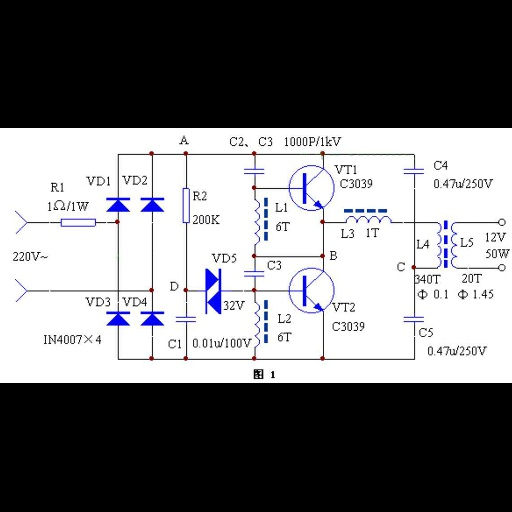capacitor: (397, 311, 431, 325), (172, 312, 201, 326), (241, 266, 268, 281), (240, 162, 266, 176), (400, 165, 426, 179)
firstdiode: (137, 307, 167, 330), (103, 307, 132, 330), (139, 195, 168, 216), (103, 195, 132, 215)
firstresistance: (53, 215, 99, 231), (178, 185, 192, 226)
inductor: (249, 196, 262, 247), (249, 296, 261, 351), (339, 213, 395, 224)
transformer: (433, 217, 460, 270)
